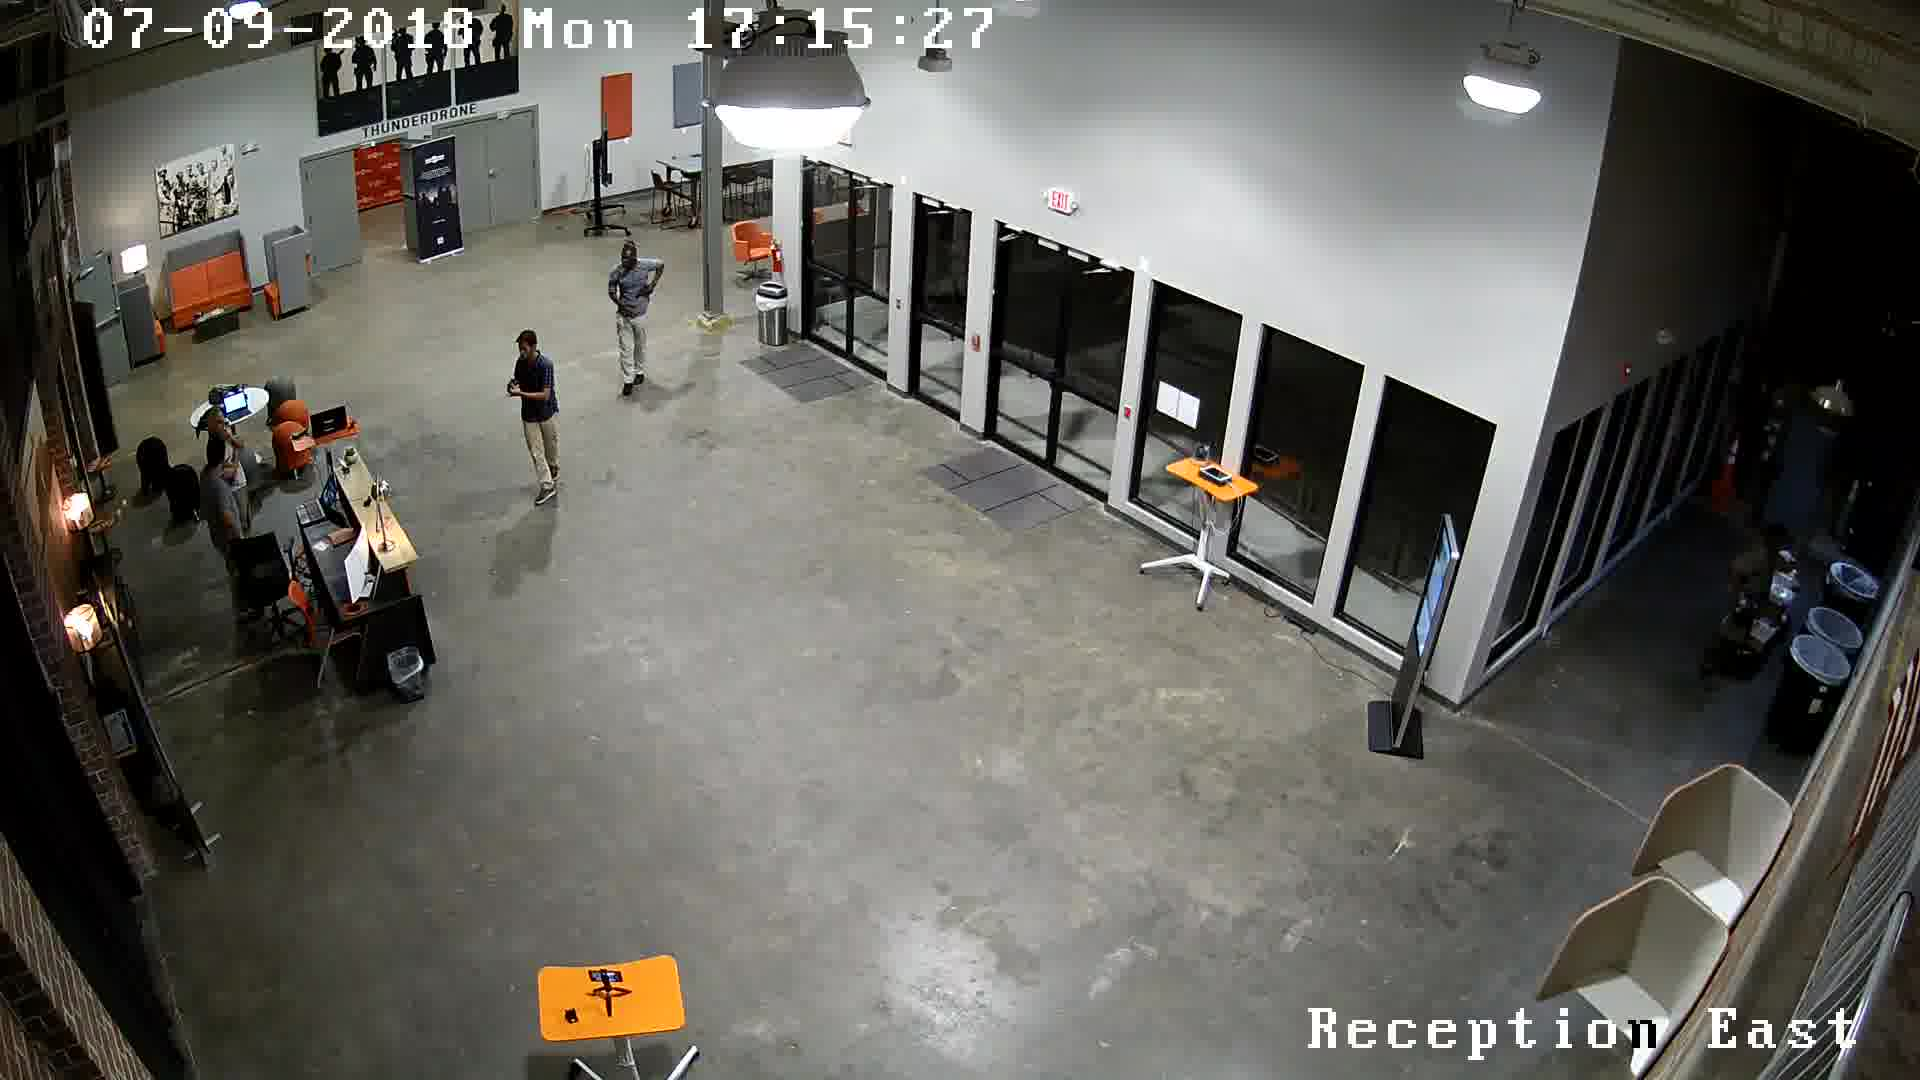pistol: (626, 282, 665, 310)
